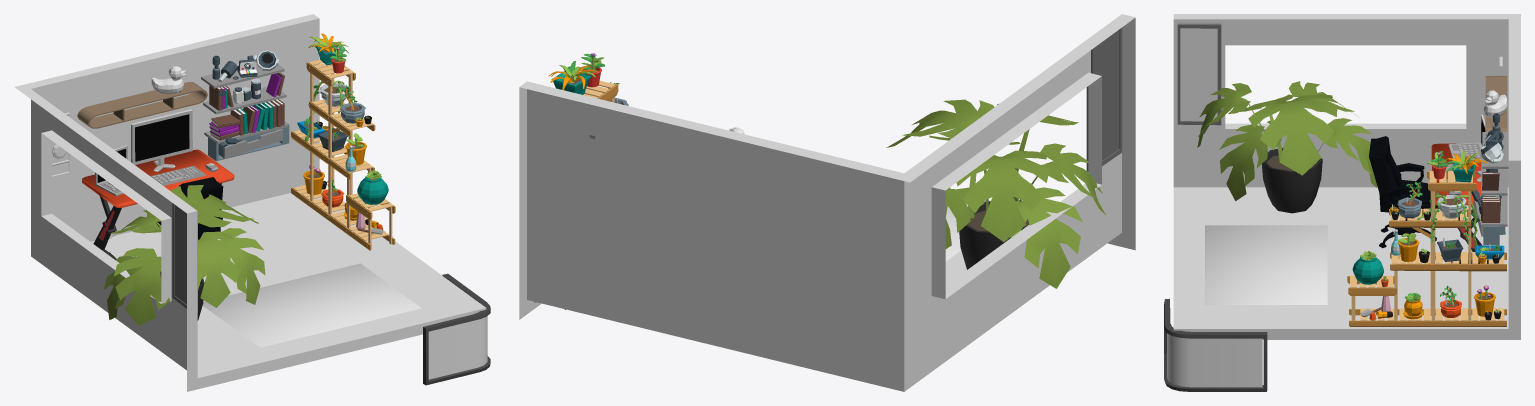
File: PACKEDanother-try-objects_only_copy.blend1.glb
3 views of the same model, side by side, from view 1: azimuth 30°, elevation 25°; view 2: azimuth 150°, elevation 25°; view 3: azimuth 270°, elevation 25° (orthographic). The views are drawn at different scales.
Parts seen in each view (by area): view 1: Room, PlantShelf, Rug, Plant, ShelfClutter, SignCorner, Computer, SimpleShelf, Desk, SignWall, Chair, Duck (+1 smaller); view 2: Room, Plant, SignWall, PlantShelf; view 3: Room, PlantShelf, Plant, Rug, SignCorner, SignWall, ShelfClutter, Chair, Desk, Computer, SimpleShelf, Duck.
Part boxes in pixels (left/top/right/bottom): Room: left=14, top=14, right=486, bottom=391; PlantShelf: left=291, top=33, right=395, bottom=250; Rug: left=202, top=263, right=421, bottom=347; Plant: left=103, top=185, right=265, bottom=325; ShelfClutter: left=201, top=50, right=289, bottom=161; SignCorner: left=423, top=273, right=490, bottom=385; Computer: left=95, top=109, right=217, bottom=195; SimpleShelf: left=77, top=82, right=207, bottom=128; Desk: left=82, top=149, right=234, bottom=259; SignWall: left=172, top=203, right=197, bottom=312; Chair: left=156, top=177, right=223, bottom=239; Duck: left=151, top=66, right=186, bottom=94; Room: left=519, top=14, right=1135, bottom=391; Plant: left=886, top=99, right=1105, bottom=288; SignWall: left=1086, top=27, right=1122, bottom=171; PlantShelf: left=534, top=53, right=628, bottom=309; Room: left=1173, top=14, right=1520, bottom=339; PlantShelf: left=1347, top=150, right=1506, bottom=326; Plant: left=1197, top=81, right=1376, bottom=213; Rug: left=1205, top=225, right=1327, bottom=304; SignCorner: left=1164, top=298, right=1267, bottom=391; SignWall: left=1177, top=23, right=1221, bottom=125; ShelfClutter: left=1471, top=113, right=1508, bottom=245; Chair: left=1369, top=136, right=1437, bottom=248; Desk: left=1431, top=143, right=1488, bottom=263; Computer: left=1445, top=114, right=1485, bottom=195; SimpleShelf: left=1485, top=76, right=1507, bottom=131; Duck: left=1484, top=90, right=1507, bottom=117.
Bounding box in the file's own units: 4.42 × 2.9 × 4.11.
